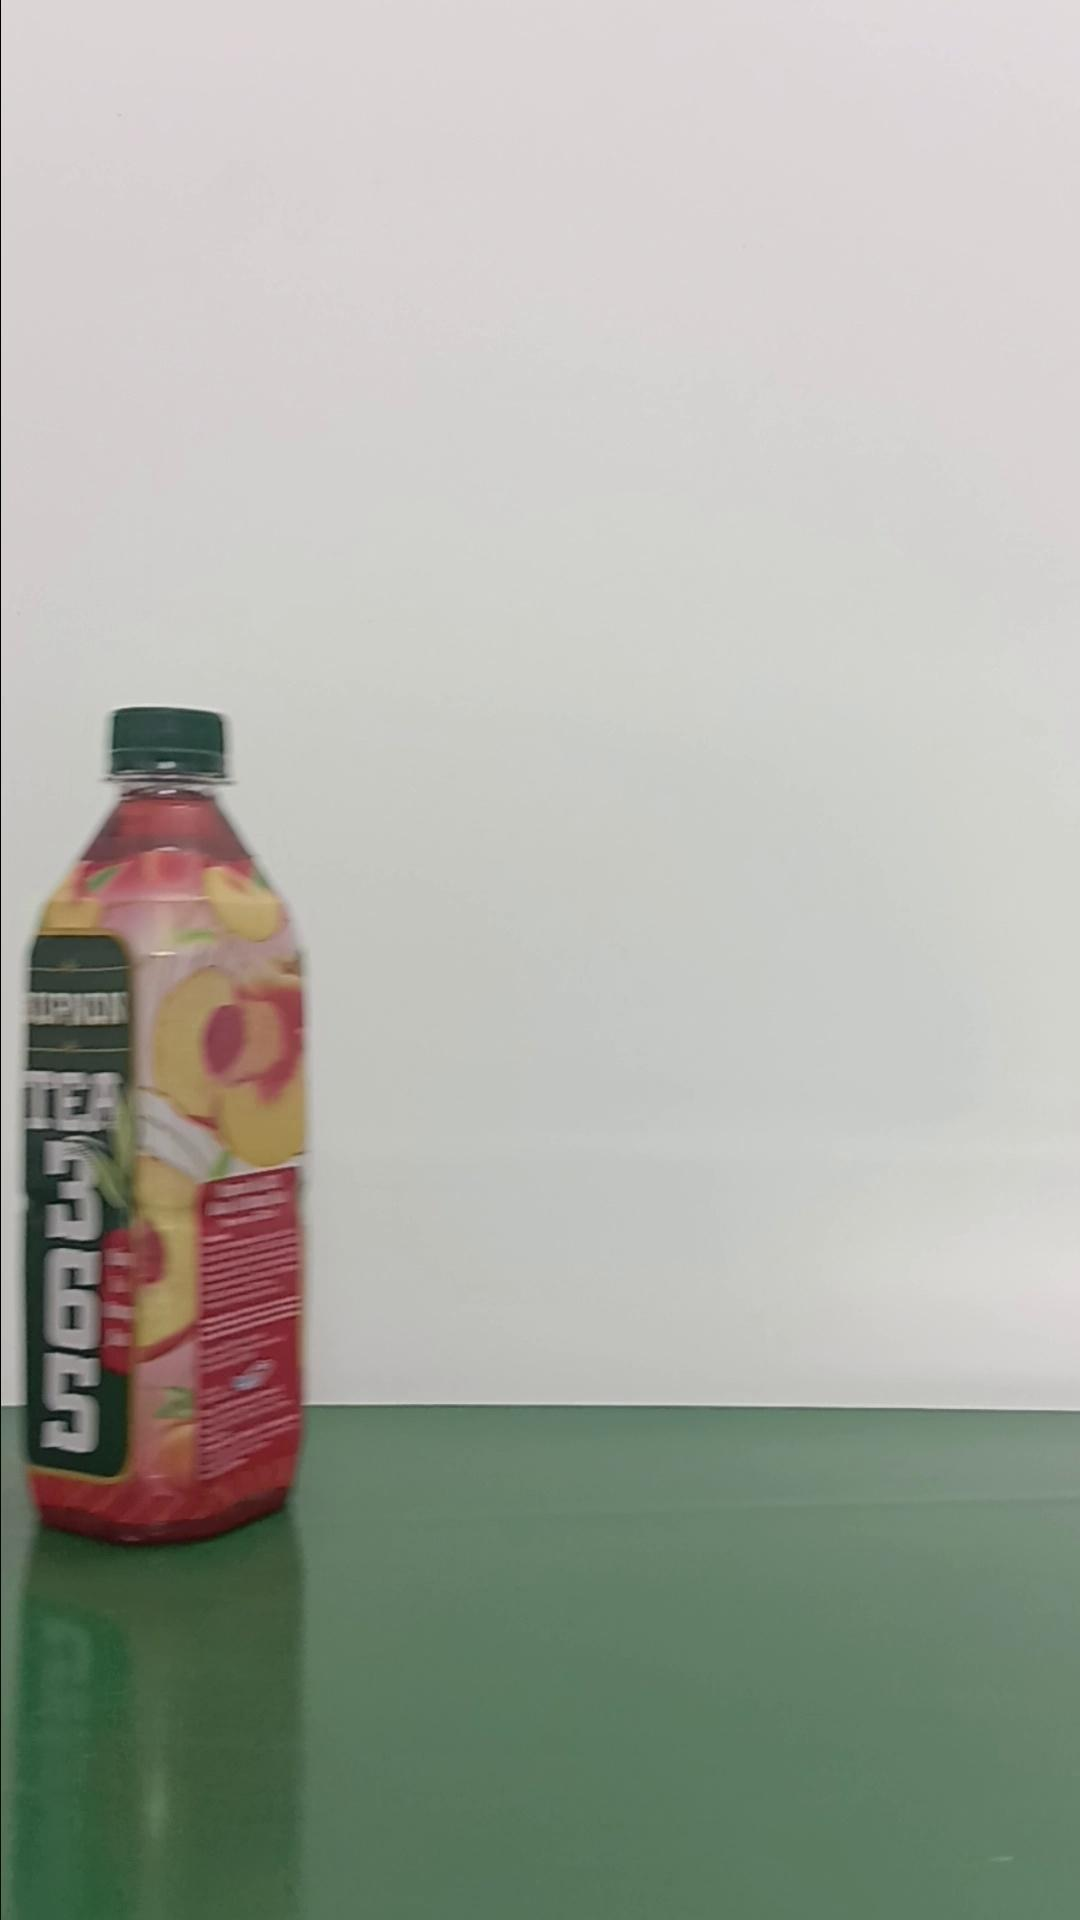khong loi: (20, 703, 310, 1545)
